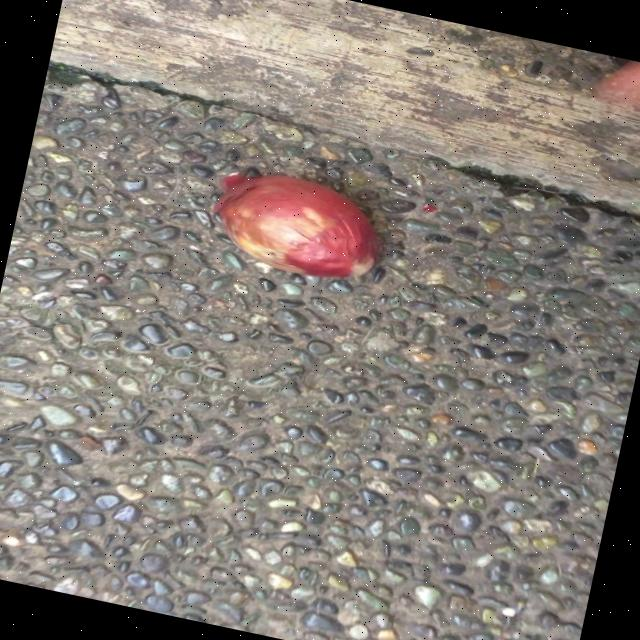Onion: (213, 173, 379, 275)
